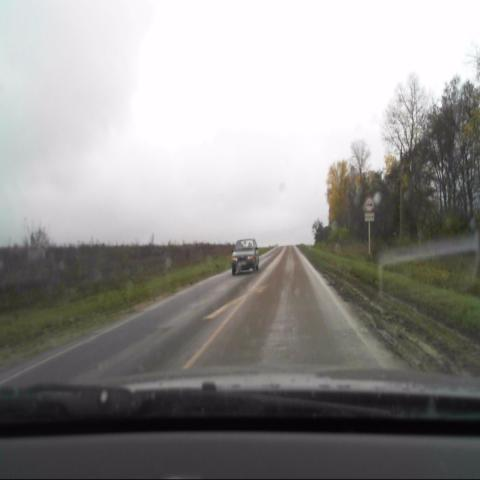3_20: (364, 196, 374, 213)
